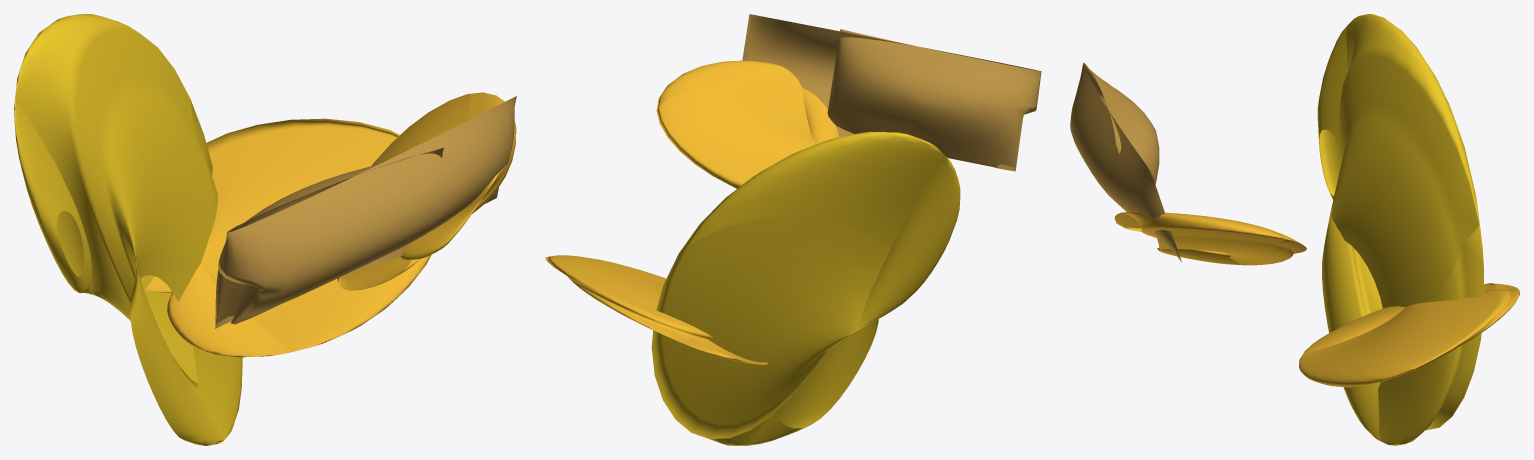
The model's file is digestive.glb.
3 views of the same model, side by side, from view 1: azimuth 30°, elevation 25°; view 2: azimuth 150°, elevation 25°; view 3: azimuth 270°, elevation 25° (orthographic). The views are drawn at different scales.
Parts seen in each view (by area): view 1: Mesh_Equine_Caecum, Mesh_Equine_Hepar, Mesh_Equine_ColonAscendens, Mesh_Equine_Gaster; view 2: Mesh_Equine_Caecum, Mesh_Equine_Hepar, Mesh_Equine_Gaster, Mesh_Equine_ColonAscendens; view 3: Mesh_Equine_Caecum, Mesh_Equine_ColonAscendens, Mesh_Equine_Hepar, Mesh_Equine_Gaster.
Part boxes in pixels (<box>): Mesh_Equine_Caecum: <box>14,14,242,445</box>; Mesh_Equine_Hepar: <box>215,96,516,328</box>; Mesh_Equine_ColonAscendens: <box>145,118,431,357</box>; Mesh_Equine_Gaster: <box>337,92,516,290</box>; Mesh_Equine_Caecum: <box>651,131,960,445</box>; Mesh_Equine_Hepar: <box>742,14,1041,171</box>; Mesh_Equine_Gaster: <box>656,60,842,188</box>; Mesh_Equine_ColonAscendens: <box>545,255,767,364</box>; Mesh_Equine_Caecum: <box>1317,14,1484,445</box>; Mesh_Equine_ColonAscendens: <box>1299,283,1519,387</box>; Mesh_Equine_Hepar: <box>1070,62,1181,262</box>; Mesh_Equine_Gaster: <box>1114,211,1306,265</box>.
Bounding box in the file's own units: 0.905 × 0.8258 × 0.9509.
